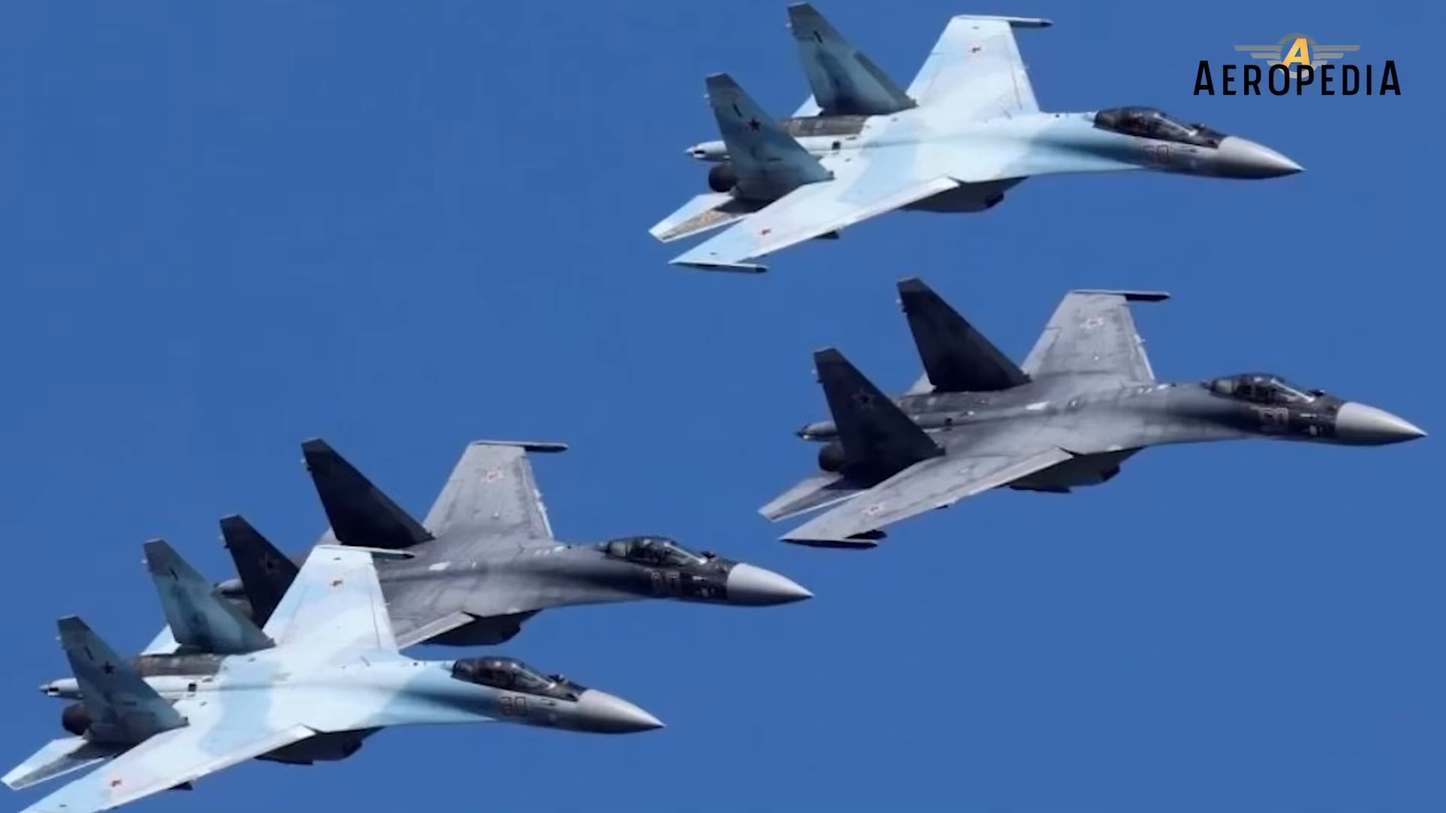Su35: (756, 278, 1428, 552), (0, 539, 665, 811), (655, 1, 1289, 273), (182, 435, 815, 646)
